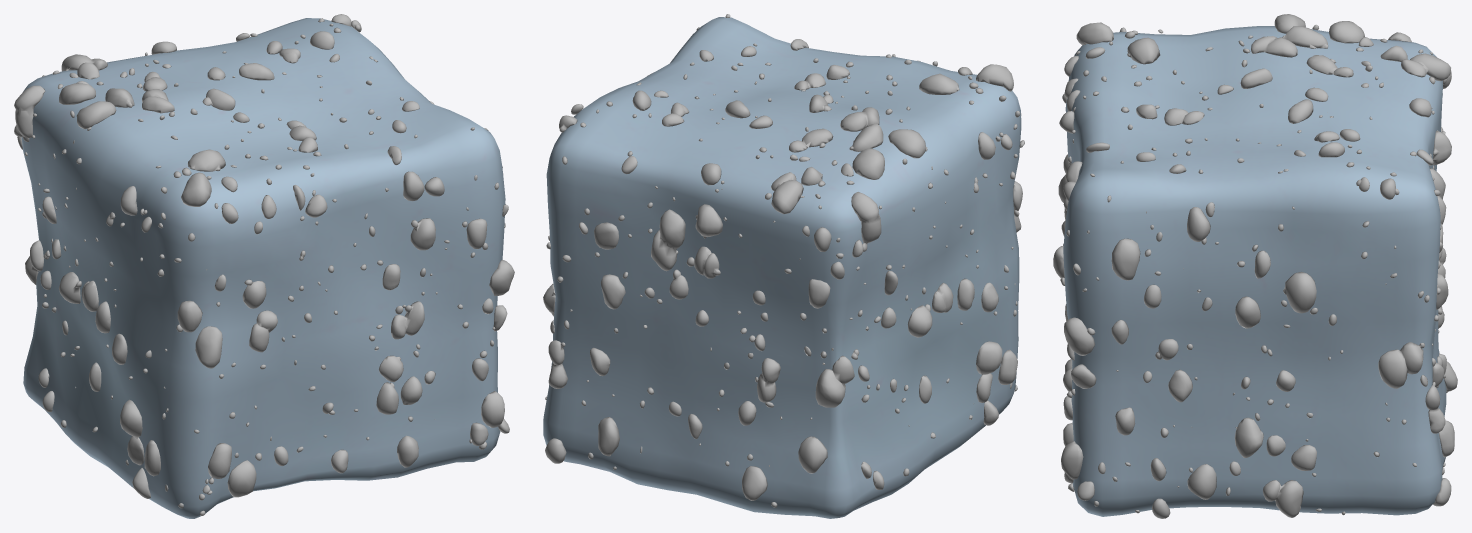
The model's file is Ice+Cube.glb.
3 renders of one model, left to right at view 1: azimuth 30°, elevation 25°; view 2: azimuth 150°, elevation 25°; view 3: azimuth 270°, elevation 25°, orthographic. The views are drawn at different scales.
Visible parts, largest first — view 1: Ice Cube, Droplets; view 2: Ice Cube, Droplets; view 3: Ice Cube, Droplets.
Part boxes in pixels (left/top/right/bottom): Ice Cube: left=21, top=18, right=505, bottom=518; Droplets: left=14, top=14, right=514, bottom=515; Ice Cube: left=543, top=17, right=1021, bottom=518; Droplets: left=543, top=14, right=1024, bottom=507; Ice Cube: left=1063, top=26, right=1446, bottom=516; Droplets: left=1053, top=14, right=1457, bottom=518.
Bounding box in the file's own units: 2.44 × 2.35 × 2.36.
Materials: 2 (1 with a texture image).
